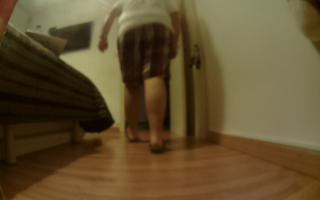person: (95, 1, 186, 157)
